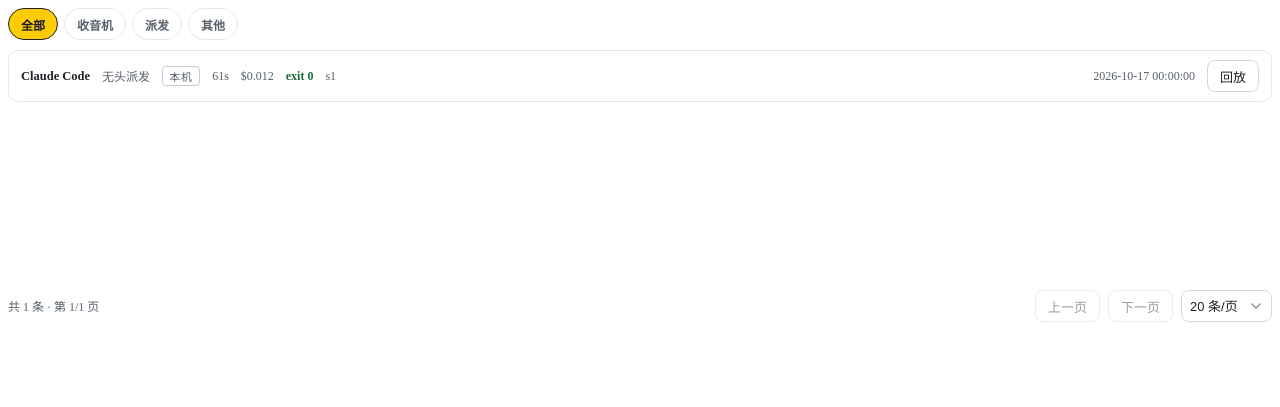
Test: 执行世界徽章与回放路由 › 本机行：徽章「本机」+ 回放 → 命令行复制到剪贴板（handoff——宿主无第三方终端面板）
The width and height of the screenshot is (1280, 407).
Check: the text "本机" is shown, box [162, 66, 200, 86]
Click the button with test id "session-replay".
click(1233, 76)  # box [1207, 60, 1259, 92]
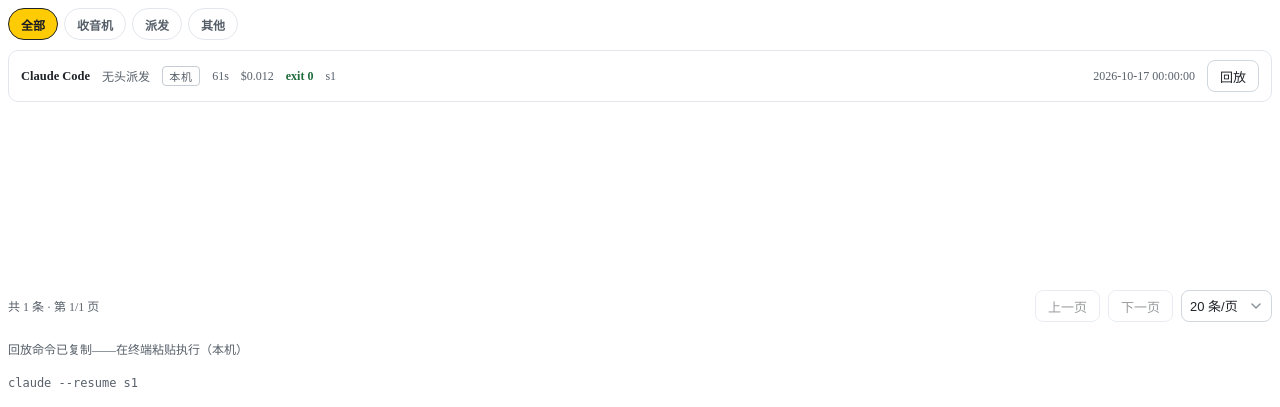
Check: the message with test id "session-note" shows "回放命令已复制", box [8, 343, 248, 357]
Check: the element with test id "session-replay-line" reads "claude --resume s1", box [8, 376, 138, 390]
